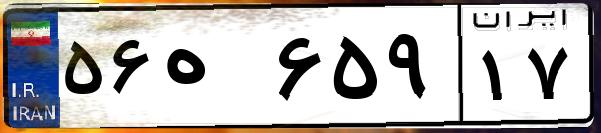1: (475, 38, 525, 113)
5: (330, 28, 385, 110), (57, 26, 110, 100)
6: (270, 28, 330, 110), (110, 28, 158, 98)
7: (525, 38, 570, 115)
9: (385, 28, 445, 110)
ه: (158, 20, 270, 120)
